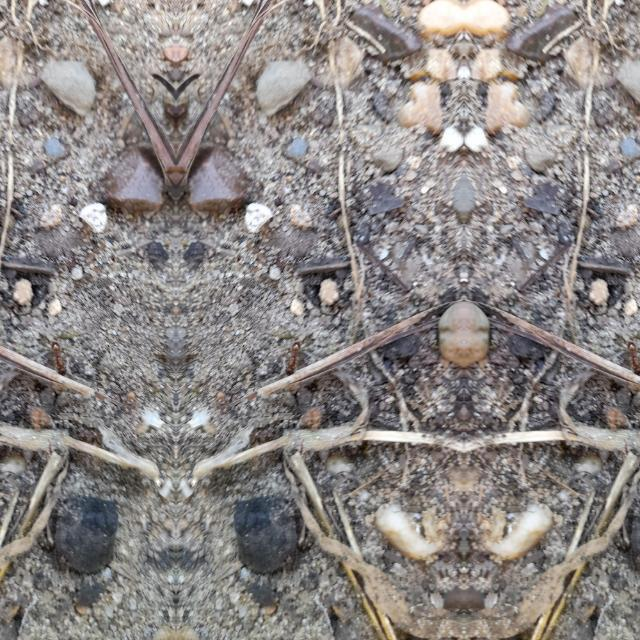Myrmica: (284, 333, 304, 382), (48, 333, 68, 382), (624, 332, 640, 382)
